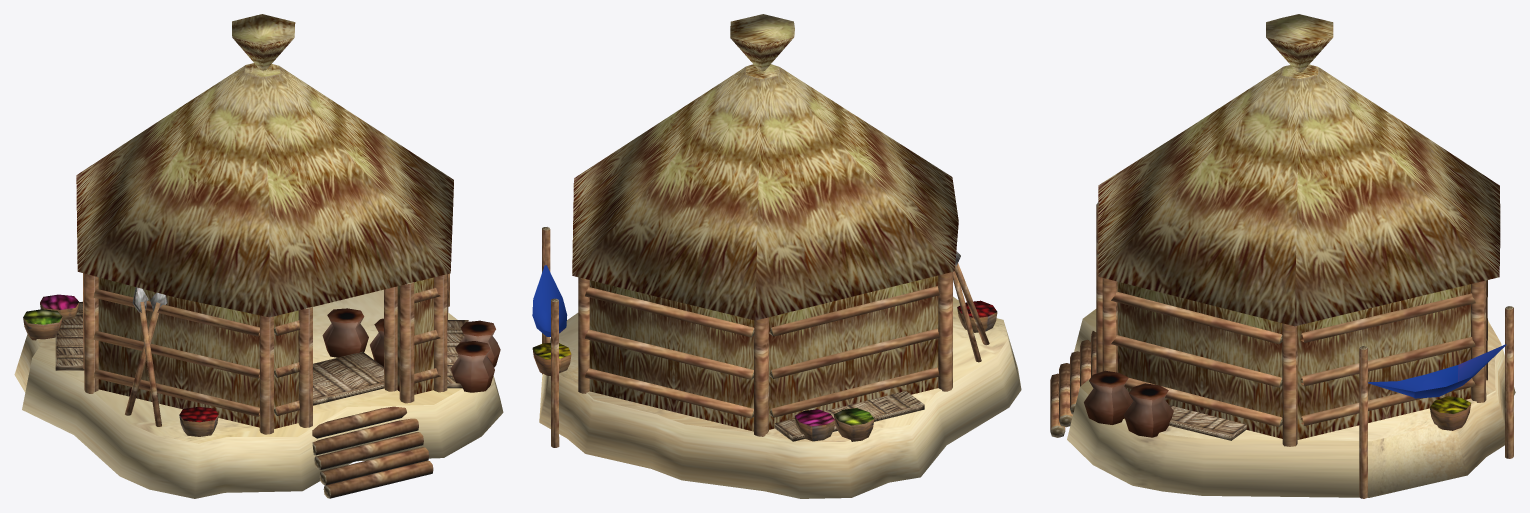
The model's file is house_4.dae.
3 renders of one model, left to right at view 1: azimuth 30°, elevation 25°; view 2: azimuth 150°, elevation 25°; view 3: azimuth 270°, elevation 25°, orthographic. The views are drawn at different scales.
Visible parts, largest first — view 1: house_4; view 2: house_4; view 3: house_4.
Boxes of the visible parts, x1=… form: house_4: x1=14, y1=14, x2=503, y2=498; house_4: x1=532, y1=14, x2=1021, y2=498; house_4: x1=1050, y1=14, x2=1515, y2=498.
Size of the model in its own units: 12.7 by 12.76 by 11.59.
